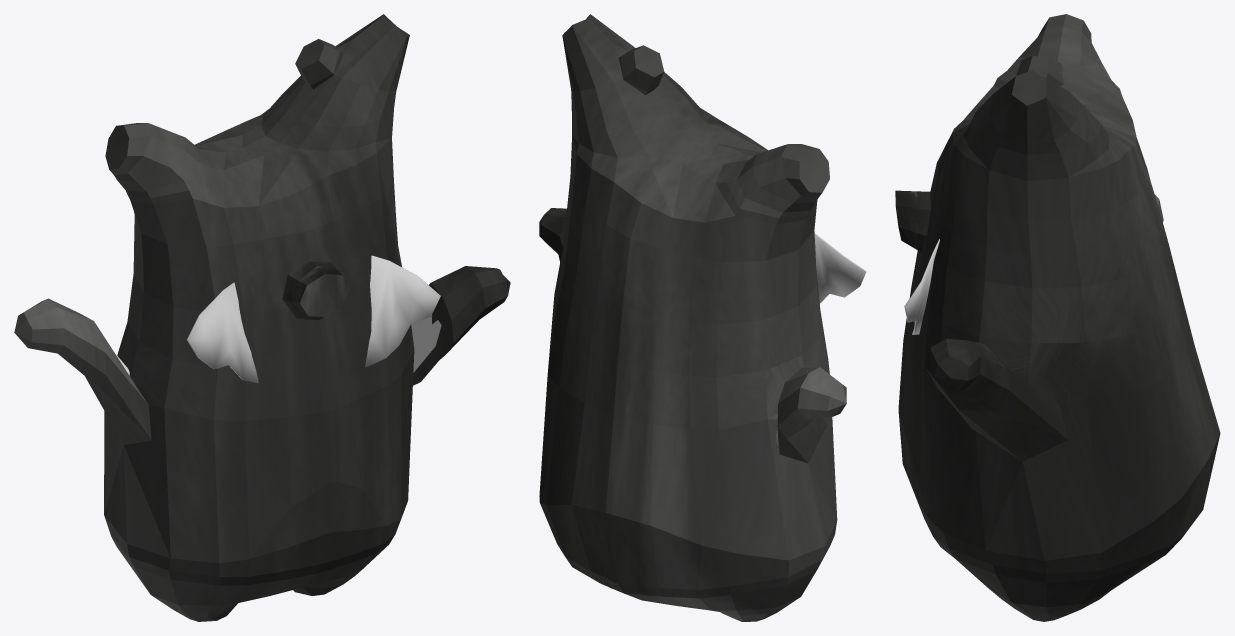
Rendered from frame_0090.obj.
3 renders of one model, left to right at view 1: azimuth 30°, elevation 25°; view 2: azimuth 150°, elevation 25°; view 3: azimuth 270°, elevation 25°, orthographic. The views are drawn at different scales.
Visible parts, largest first — view 1: korok, leaf, nose; view 2: korok, leaf; view 3: korok, nose, leaf.
Boxes of the visible parts, <box> form: korok: <box>14,14,510,621</box>; leaf: <box>186,255,440,382</box>; nose: <box>282,261,349,320</box>; korok: <box>539,14,846,621</box>; leaf: <box>814,233,866,303</box>; korok: <box>898,14,1220,621</box>; nose: <box>895,190,930,252</box>; leaf: <box>904,239,939,334</box>.
Size of the model in its own units: 1.73 by 2.31 by 1.18.
